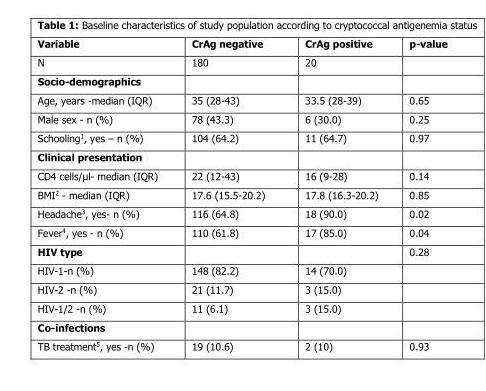table: (36, 36, 446, 351)
table column: (36, 36, 174, 351), (174, 36, 284, 351), (284, 36, 393, 351), (393, 36, 446, 351)
table column header: (36, 36, 446, 52)
table projected row header: (36, 146, 446, 165), (36, 317, 446, 336), (36, 71, 446, 89)
table row: (36, 52, 446, 71), (36, 89, 446, 108), (36, 108, 446, 127), (36, 127, 446, 146), (36, 146, 446, 165), (36, 165, 446, 184), (36, 184, 446, 203), (36, 203, 446, 222), (36, 222, 446, 241), (36, 241, 446, 260), (36, 260, 446, 279), (36, 279, 446, 298), (36, 298, 446, 317), (36, 317, 446, 336), (36, 71, 446, 89), (36, 36, 446, 52), (36, 336, 446, 351)
